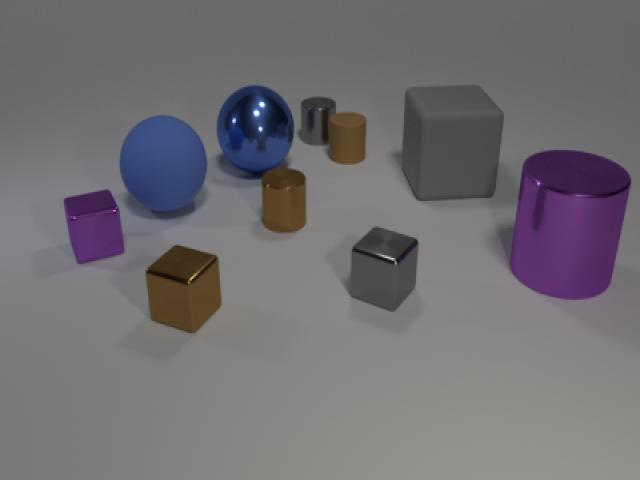cylinder: (510, 133, 633, 311), (257, 166, 309, 238), (327, 112, 369, 168), (296, 96, 337, 148)
round ball: (116, 108, 212, 218), (215, 86, 295, 179)
